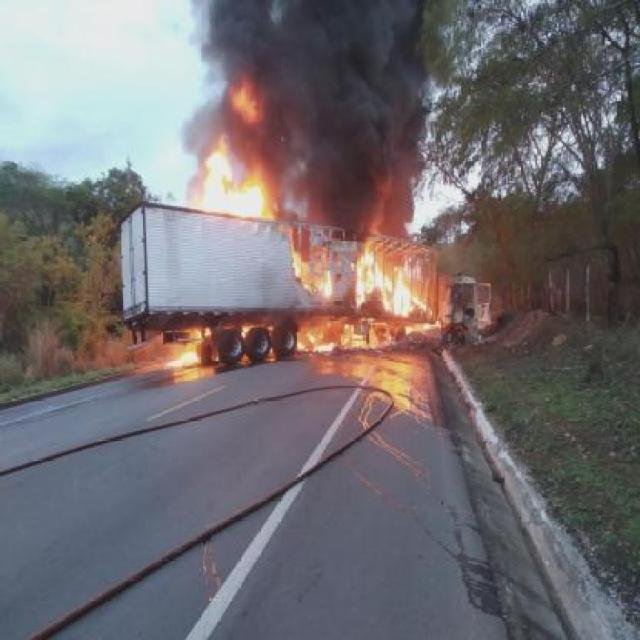Fire: (145, 101, 470, 402)
Smoke: (174, 0, 472, 248)
